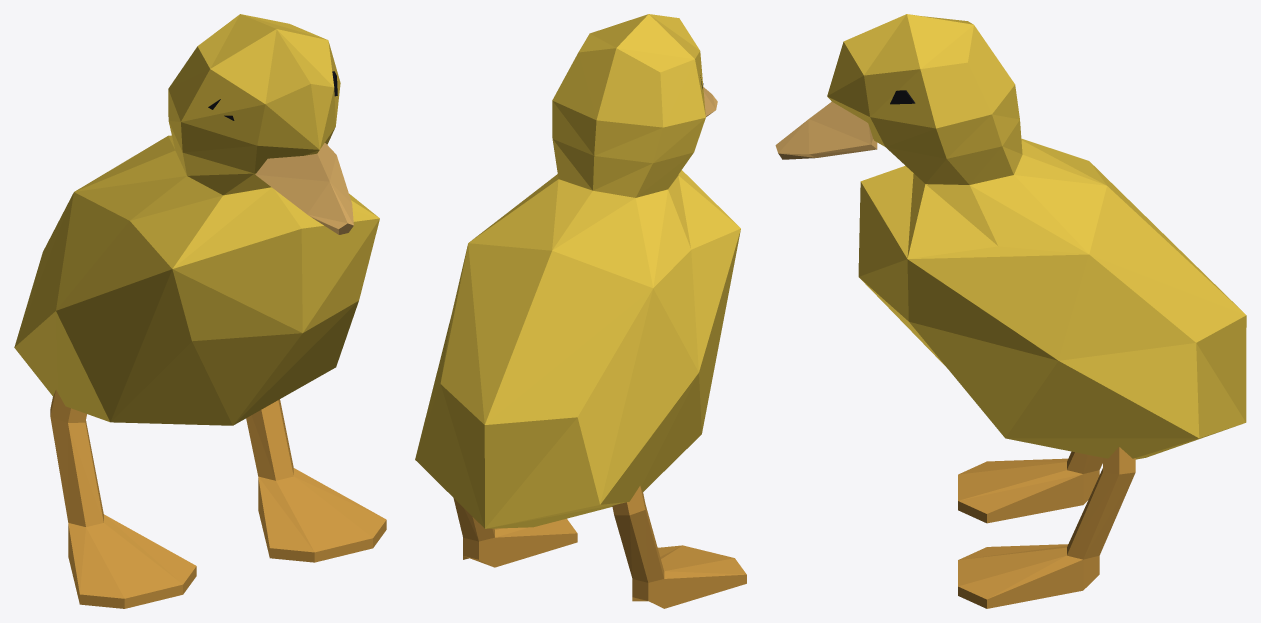
The model's file is v_duckling.glb.
The picture shows the model from 3 angles, left to right: view 1: azimuth 30°, elevation 25°; view 2: azimuth 150°, elevation 25°; view 3: azimuth 270°, elevation 25°; orthographic projection. The views are drawn at different scales.
Parts seen in each view (by area): view 1: Geo_Duckling; view 2: Geo_Duckling; view 3: Geo_Duckling.
Part boxes in pixels (x1,y1,x2,y2): Geo_Duckling: [14, 14, 386, 608]; Geo_Duckling: [415, 14, 746, 608]; Geo_Duckling: [775, 14, 1246, 608].
Bounding box in the file's own units: 0.0902 × 0.1601 × 0.13.
Materials: 1 (1 with a texture image).
